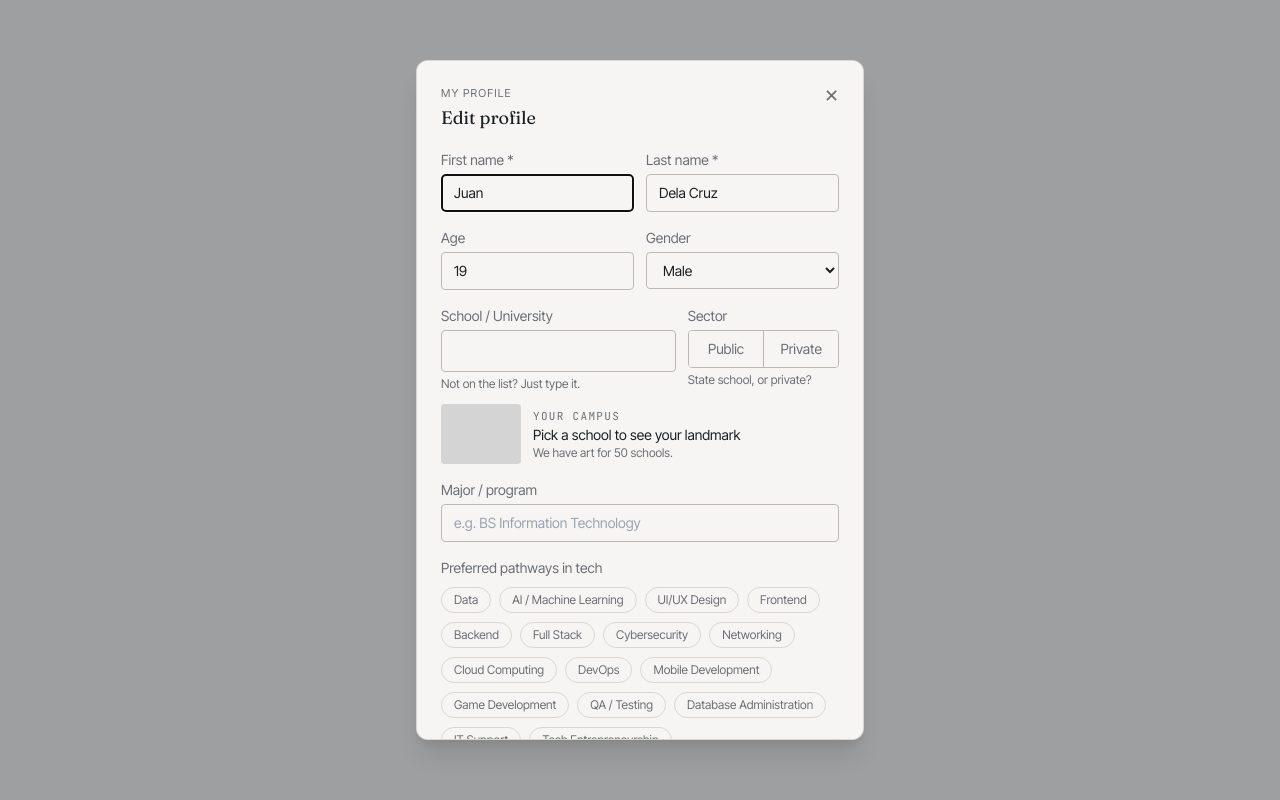
Test: EditProfileModal — server validation error (GT-11) › keeps every edit on screen when the server rejects the form
The image size is (1280, 800).
Step 1. Replace the text in the field labelled "First name *" with "Maria" → x=538, y=193, box 441,174 -> 634,212
(page scrolled)
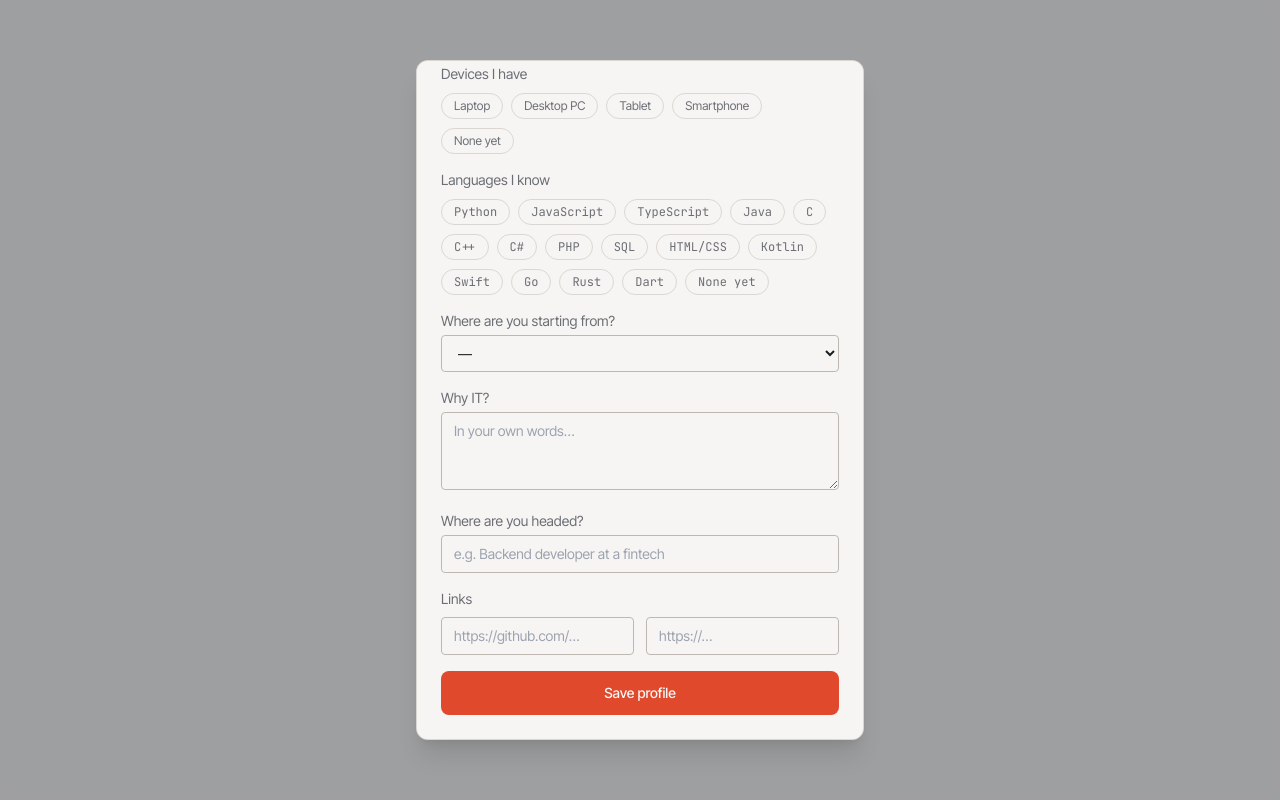
Step 2. Type "Data analyst" into the field labelled "Where are you headed?" → x=640, y=554, box 441,535 -> 839,573
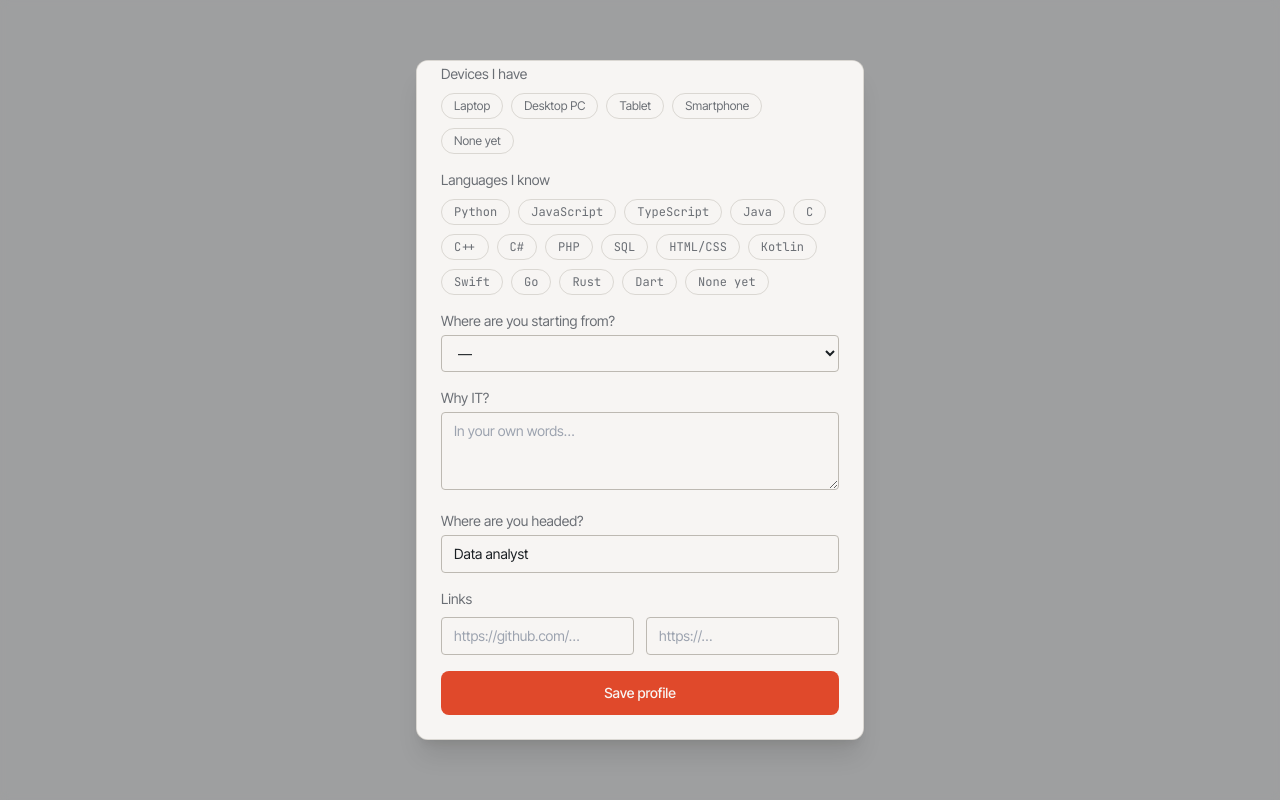
Step 3. Click the checkbox labelled "Laptop" → x=472, y=106, box 441,92 -> 503,119
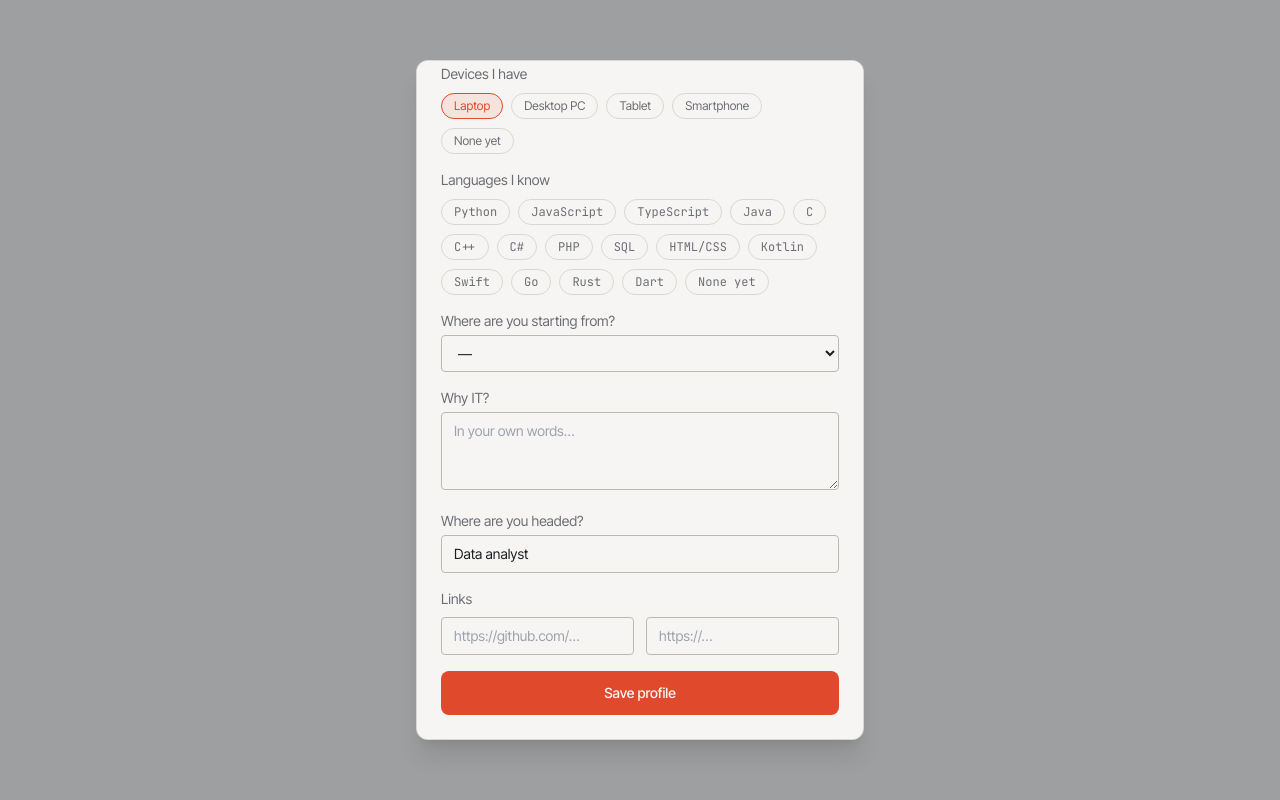
Step 4. Click the button "Save profile" → x=640, y=693, box 441,671 -> 839,715
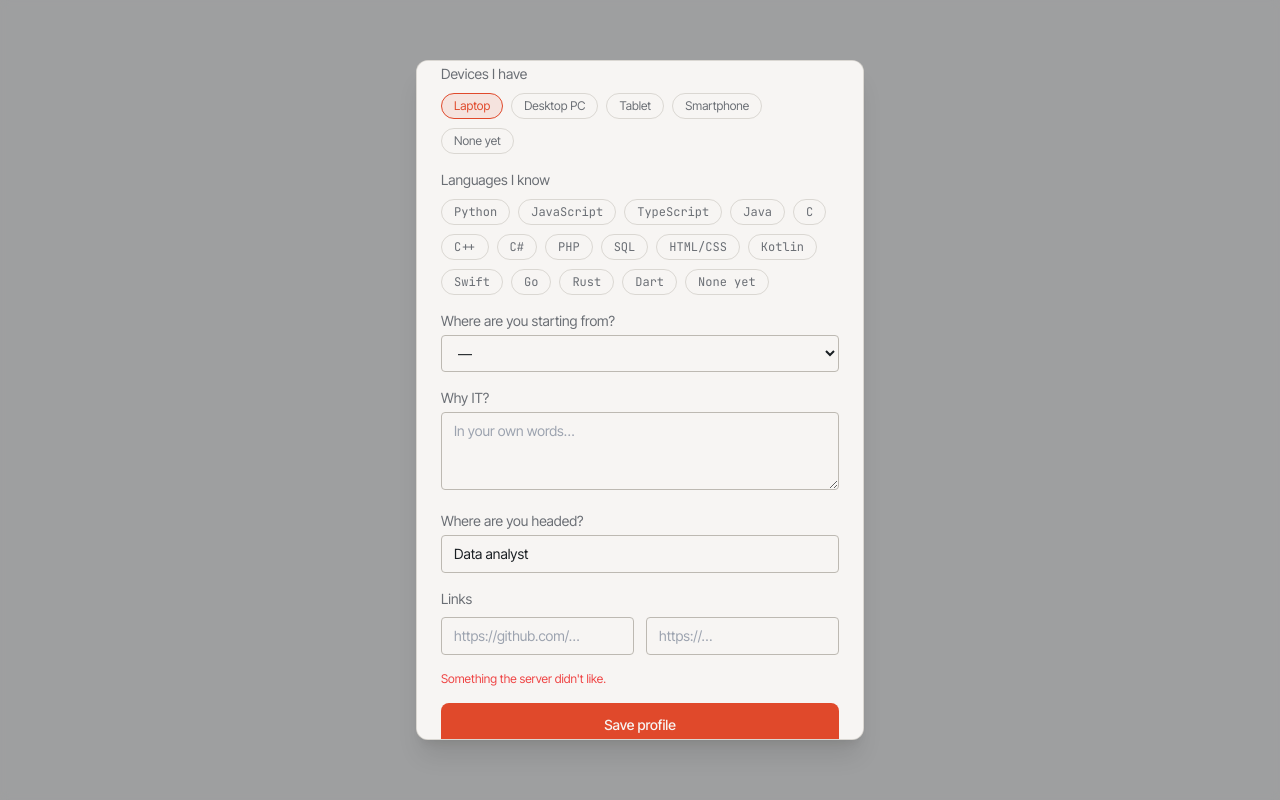
Expected: the field labelled "Where are you headed?" holds "Data analyst", 441,535 -> 839,573
Expected: the checkbox labelled "Laptop" is checked, 441,92 -> 503,119
Expected: the message reads "Something the server didn't like.", 441,671 -> 606,686
